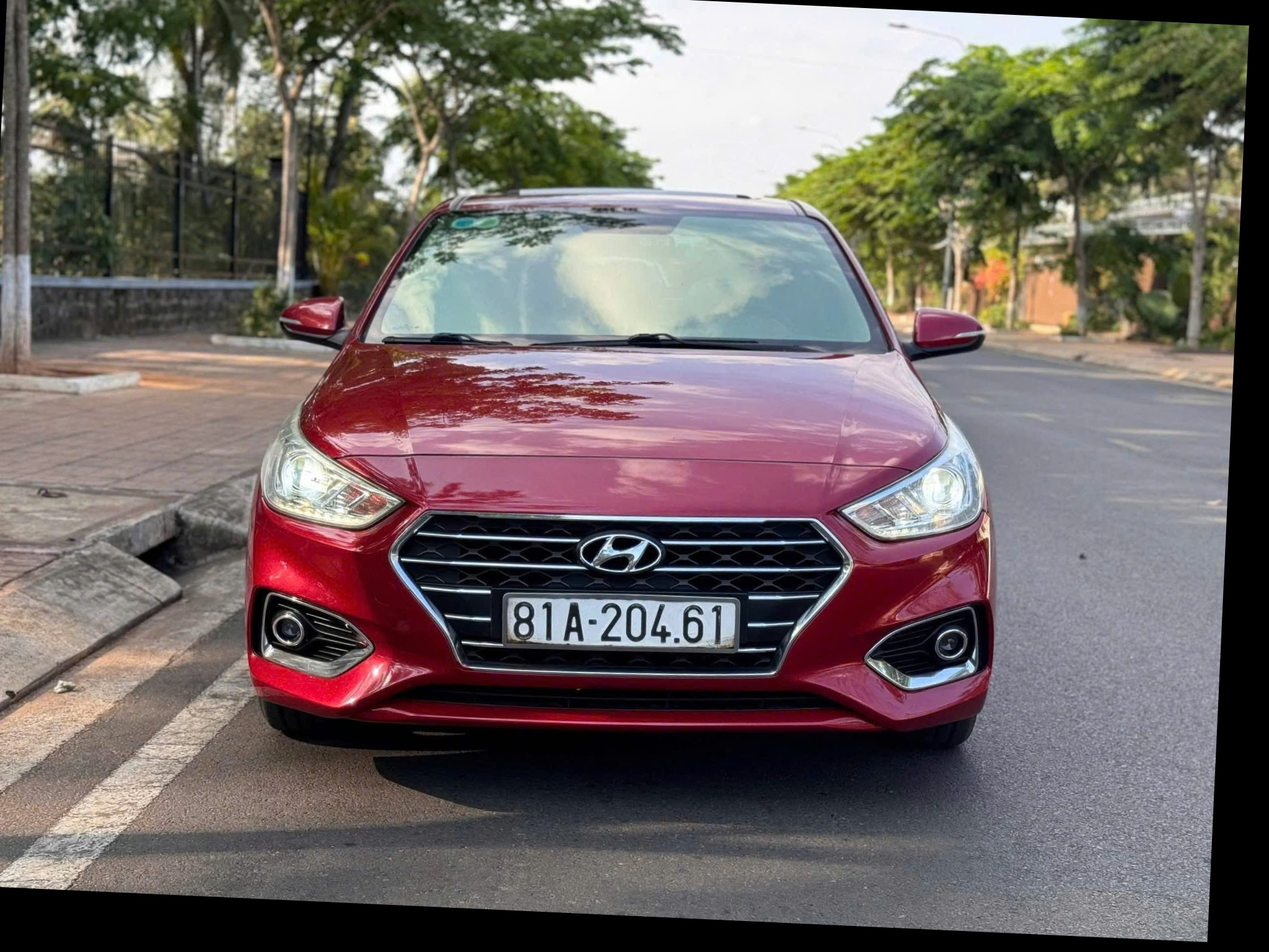Bien-so: (499, 589, 744, 649)
